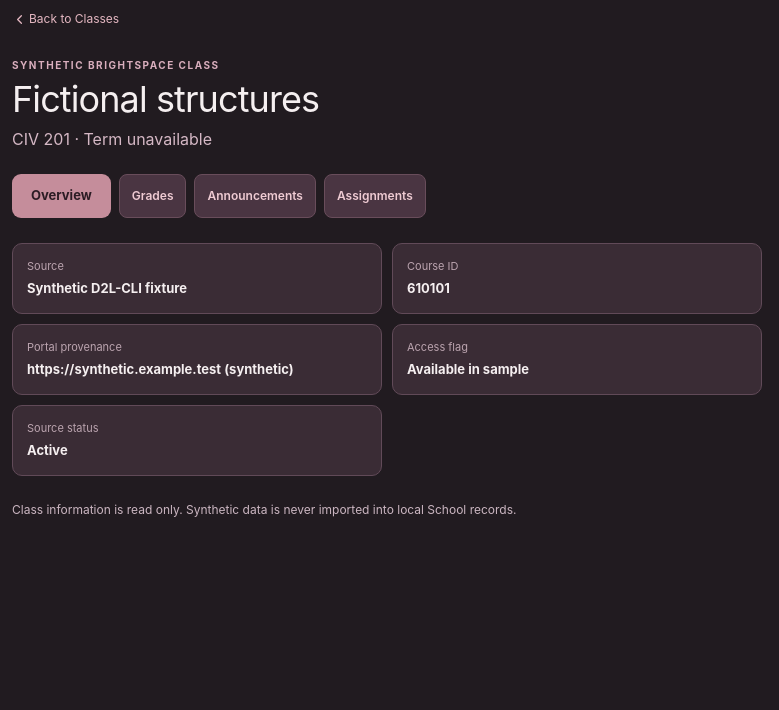
Test case: renders announcement markup and external references as inert text, without invented metadata
The image size is (779, 710).
Click the button "Announcements" at (255, 196), box [194,174,316,218]
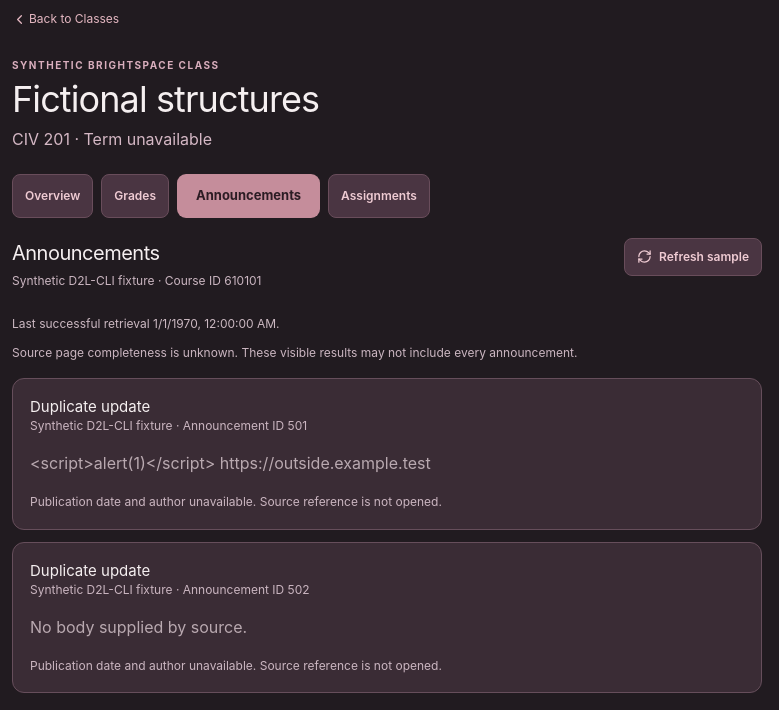
Expected: the number of headings "Duplicate update" is 2, [30,397,150,416]; [30,560,150,580]
Expected: the text "<script>alert(1)</script> https://outside.example.test" is shown, [30,453,431,473]
Expected: the text "Publication date and author unavailable" is shown 2 times, [30,494,442,509]; [30,658,442,673]
